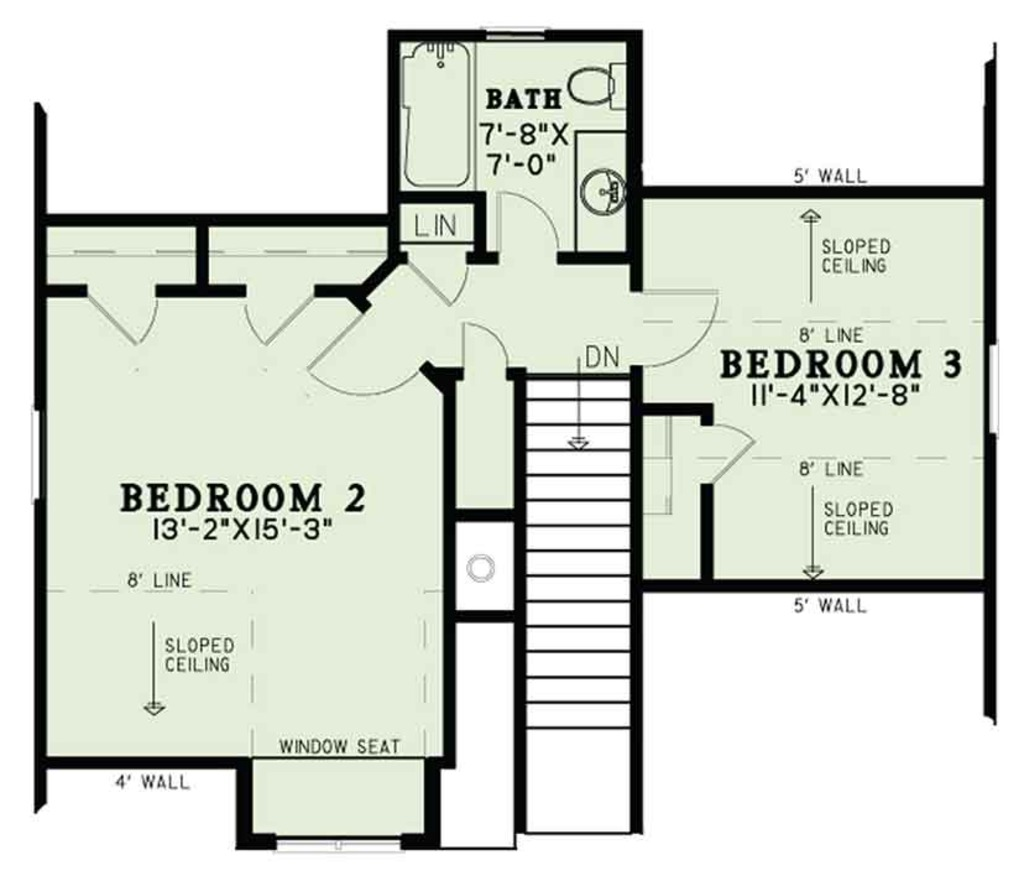door: (304, 307, 426, 409), (641, 286, 731, 372), (491, 184, 565, 267), (81, 278, 158, 347), (242, 287, 318, 349), (405, 251, 480, 309), (457, 314, 516, 383), (705, 426, 759, 491)
large_sink: (551, 52, 624, 118)
small_sink: (568, 132, 627, 259)
stairs: (527, 374, 650, 832)
tub: (396, 34, 478, 199)
window: (281, 837, 395, 856), (28, 406, 46, 506), (482, 30, 550, 47), (991, 336, 999, 433)
